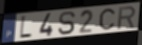2: (78, 9, 95, 34)
4: (38, 12, 55, 38)
C: (99, 8, 117, 31)
L: (18, 15, 33, 40)
R: (117, 5, 138, 31)
S: (57, 11, 78, 36)
